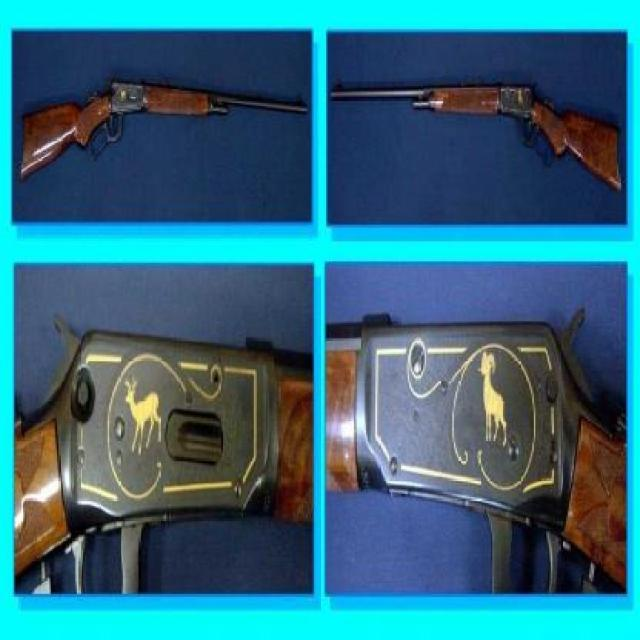weapon: (327, 310, 627, 590), (18, 312, 308, 591), (329, 79, 621, 197), (14, 76, 310, 188)
